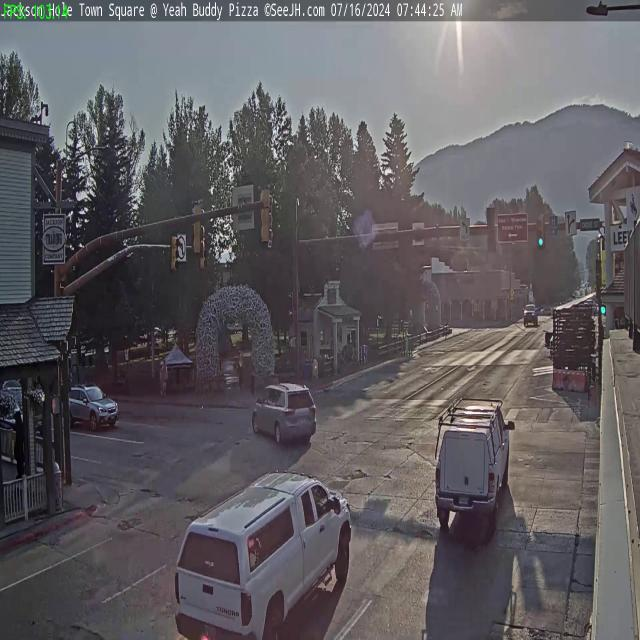minivan: (245, 376, 320, 454)
suv: (66, 382, 118, 432)
traffic light: (260, 185, 272, 244), (191, 200, 203, 256), (486, 208, 496, 252), (169, 234, 177, 273), (537, 215, 545, 247)
truck: (172, 466, 356, 639), (431, 394, 510, 530)
